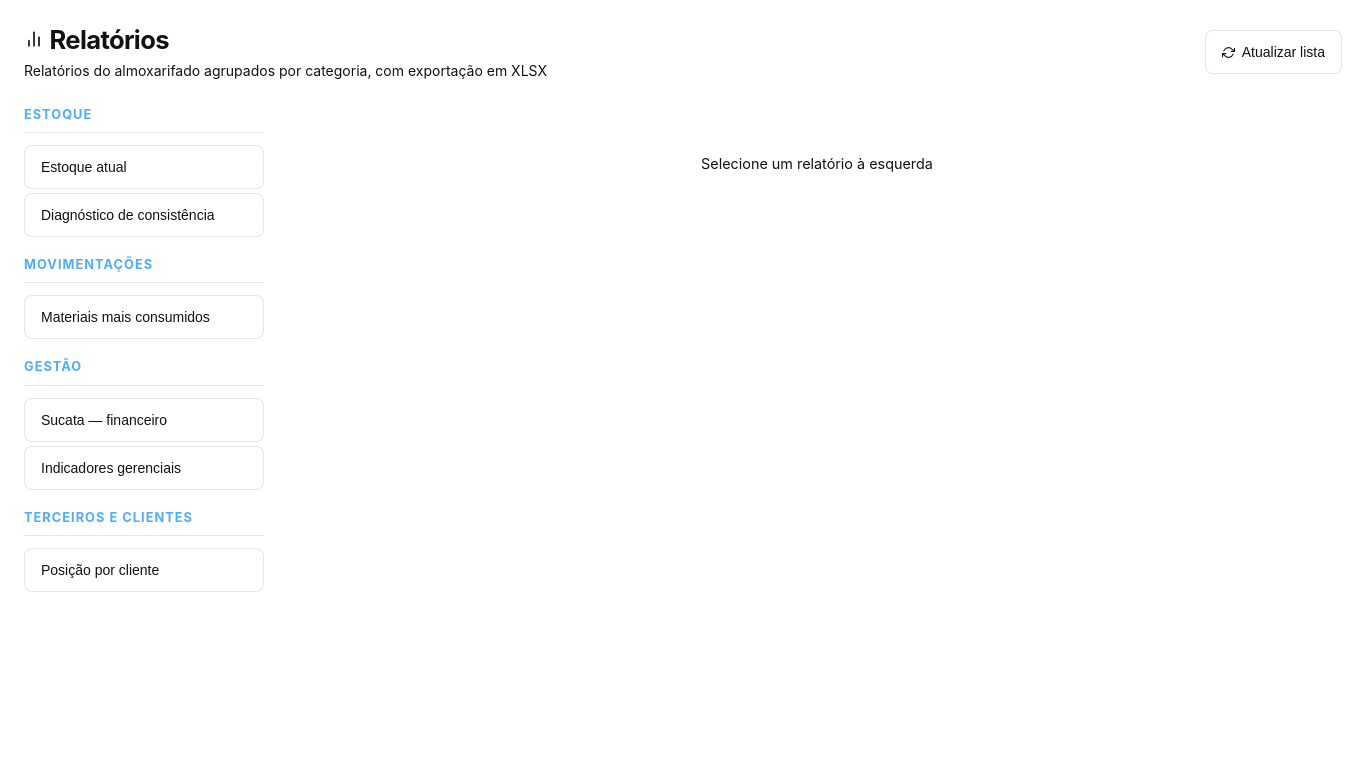
Scenario: RelatoriosAlmoxarifado — tabela projetada por `colunas` da lista (C1, Major) › linha crua com 10+ chaves mostra SÓ os rótulos das colunas declaradas, nada de chave crua
The image size is (1366, 768).
Click the button with test id "menu-relatorio-estoque-atual".
click(144, 167)  # box [24,145,264,189]
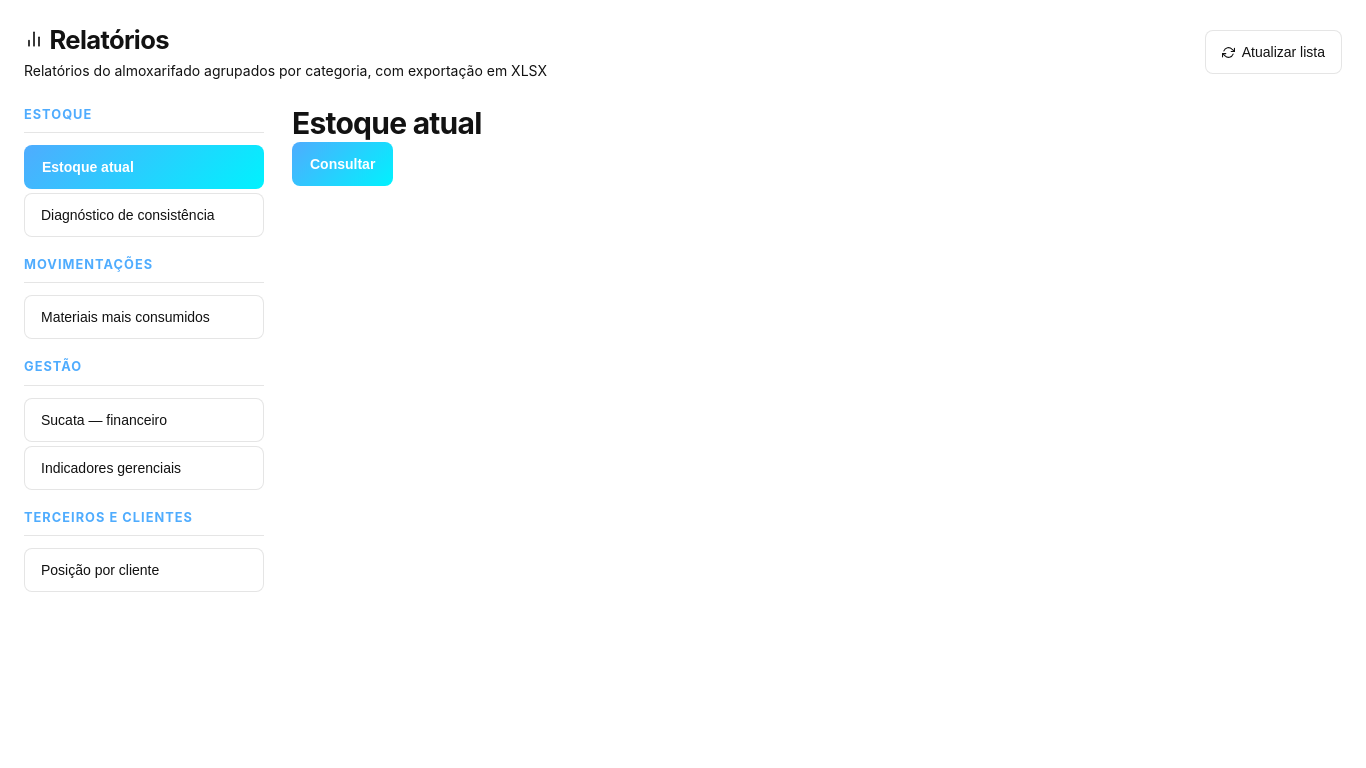
Click the button "Consultar".
click(343, 164)  # box [292,142,393,186]
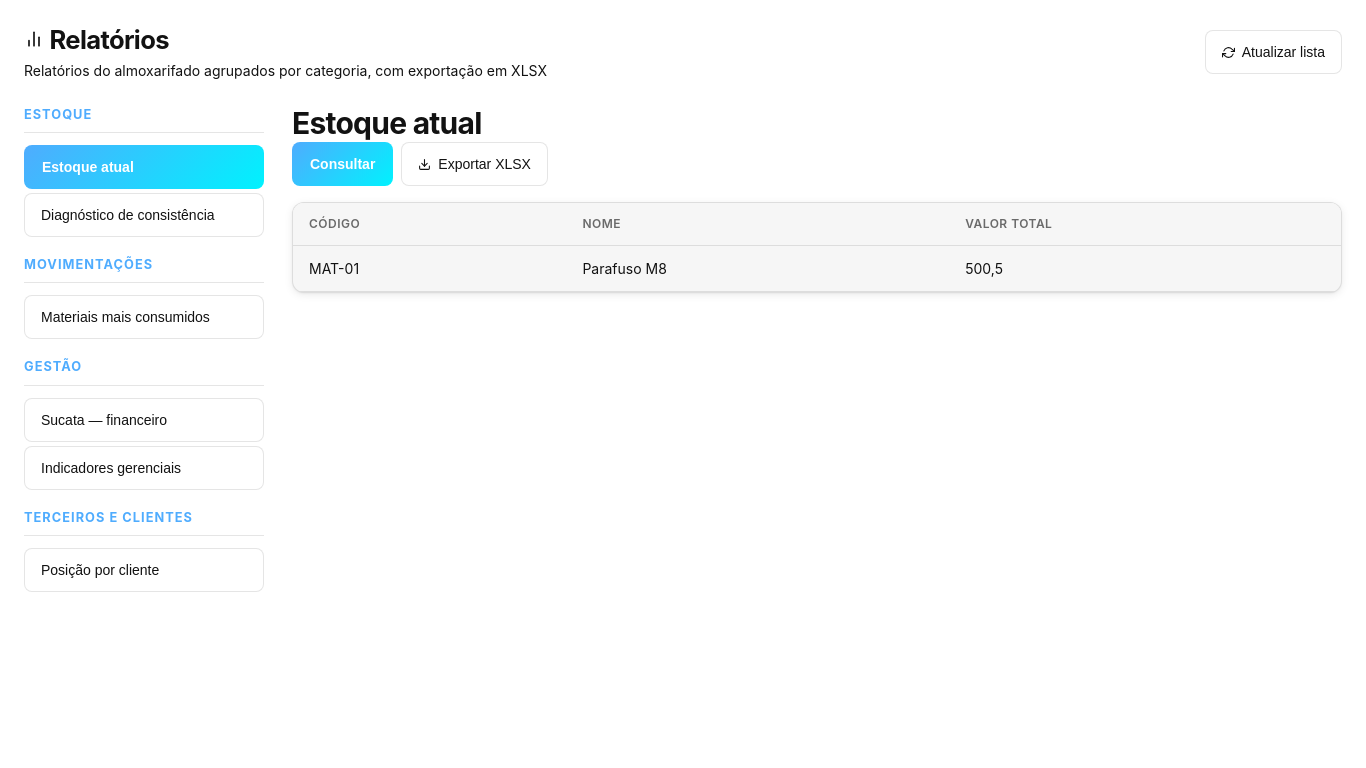
expect the table with class "almox-table" is shown: met, box [293,204,1341,292]
expect the number of cells is 3: met, box [293,246,566,292]; [566,246,949,292]; [949,246,1341,292]
expect the cell "MAT-01" is shown: met, box [293,246,566,292]
